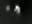person: (14, 5, 22, 16), (6, 5, 12, 13)
